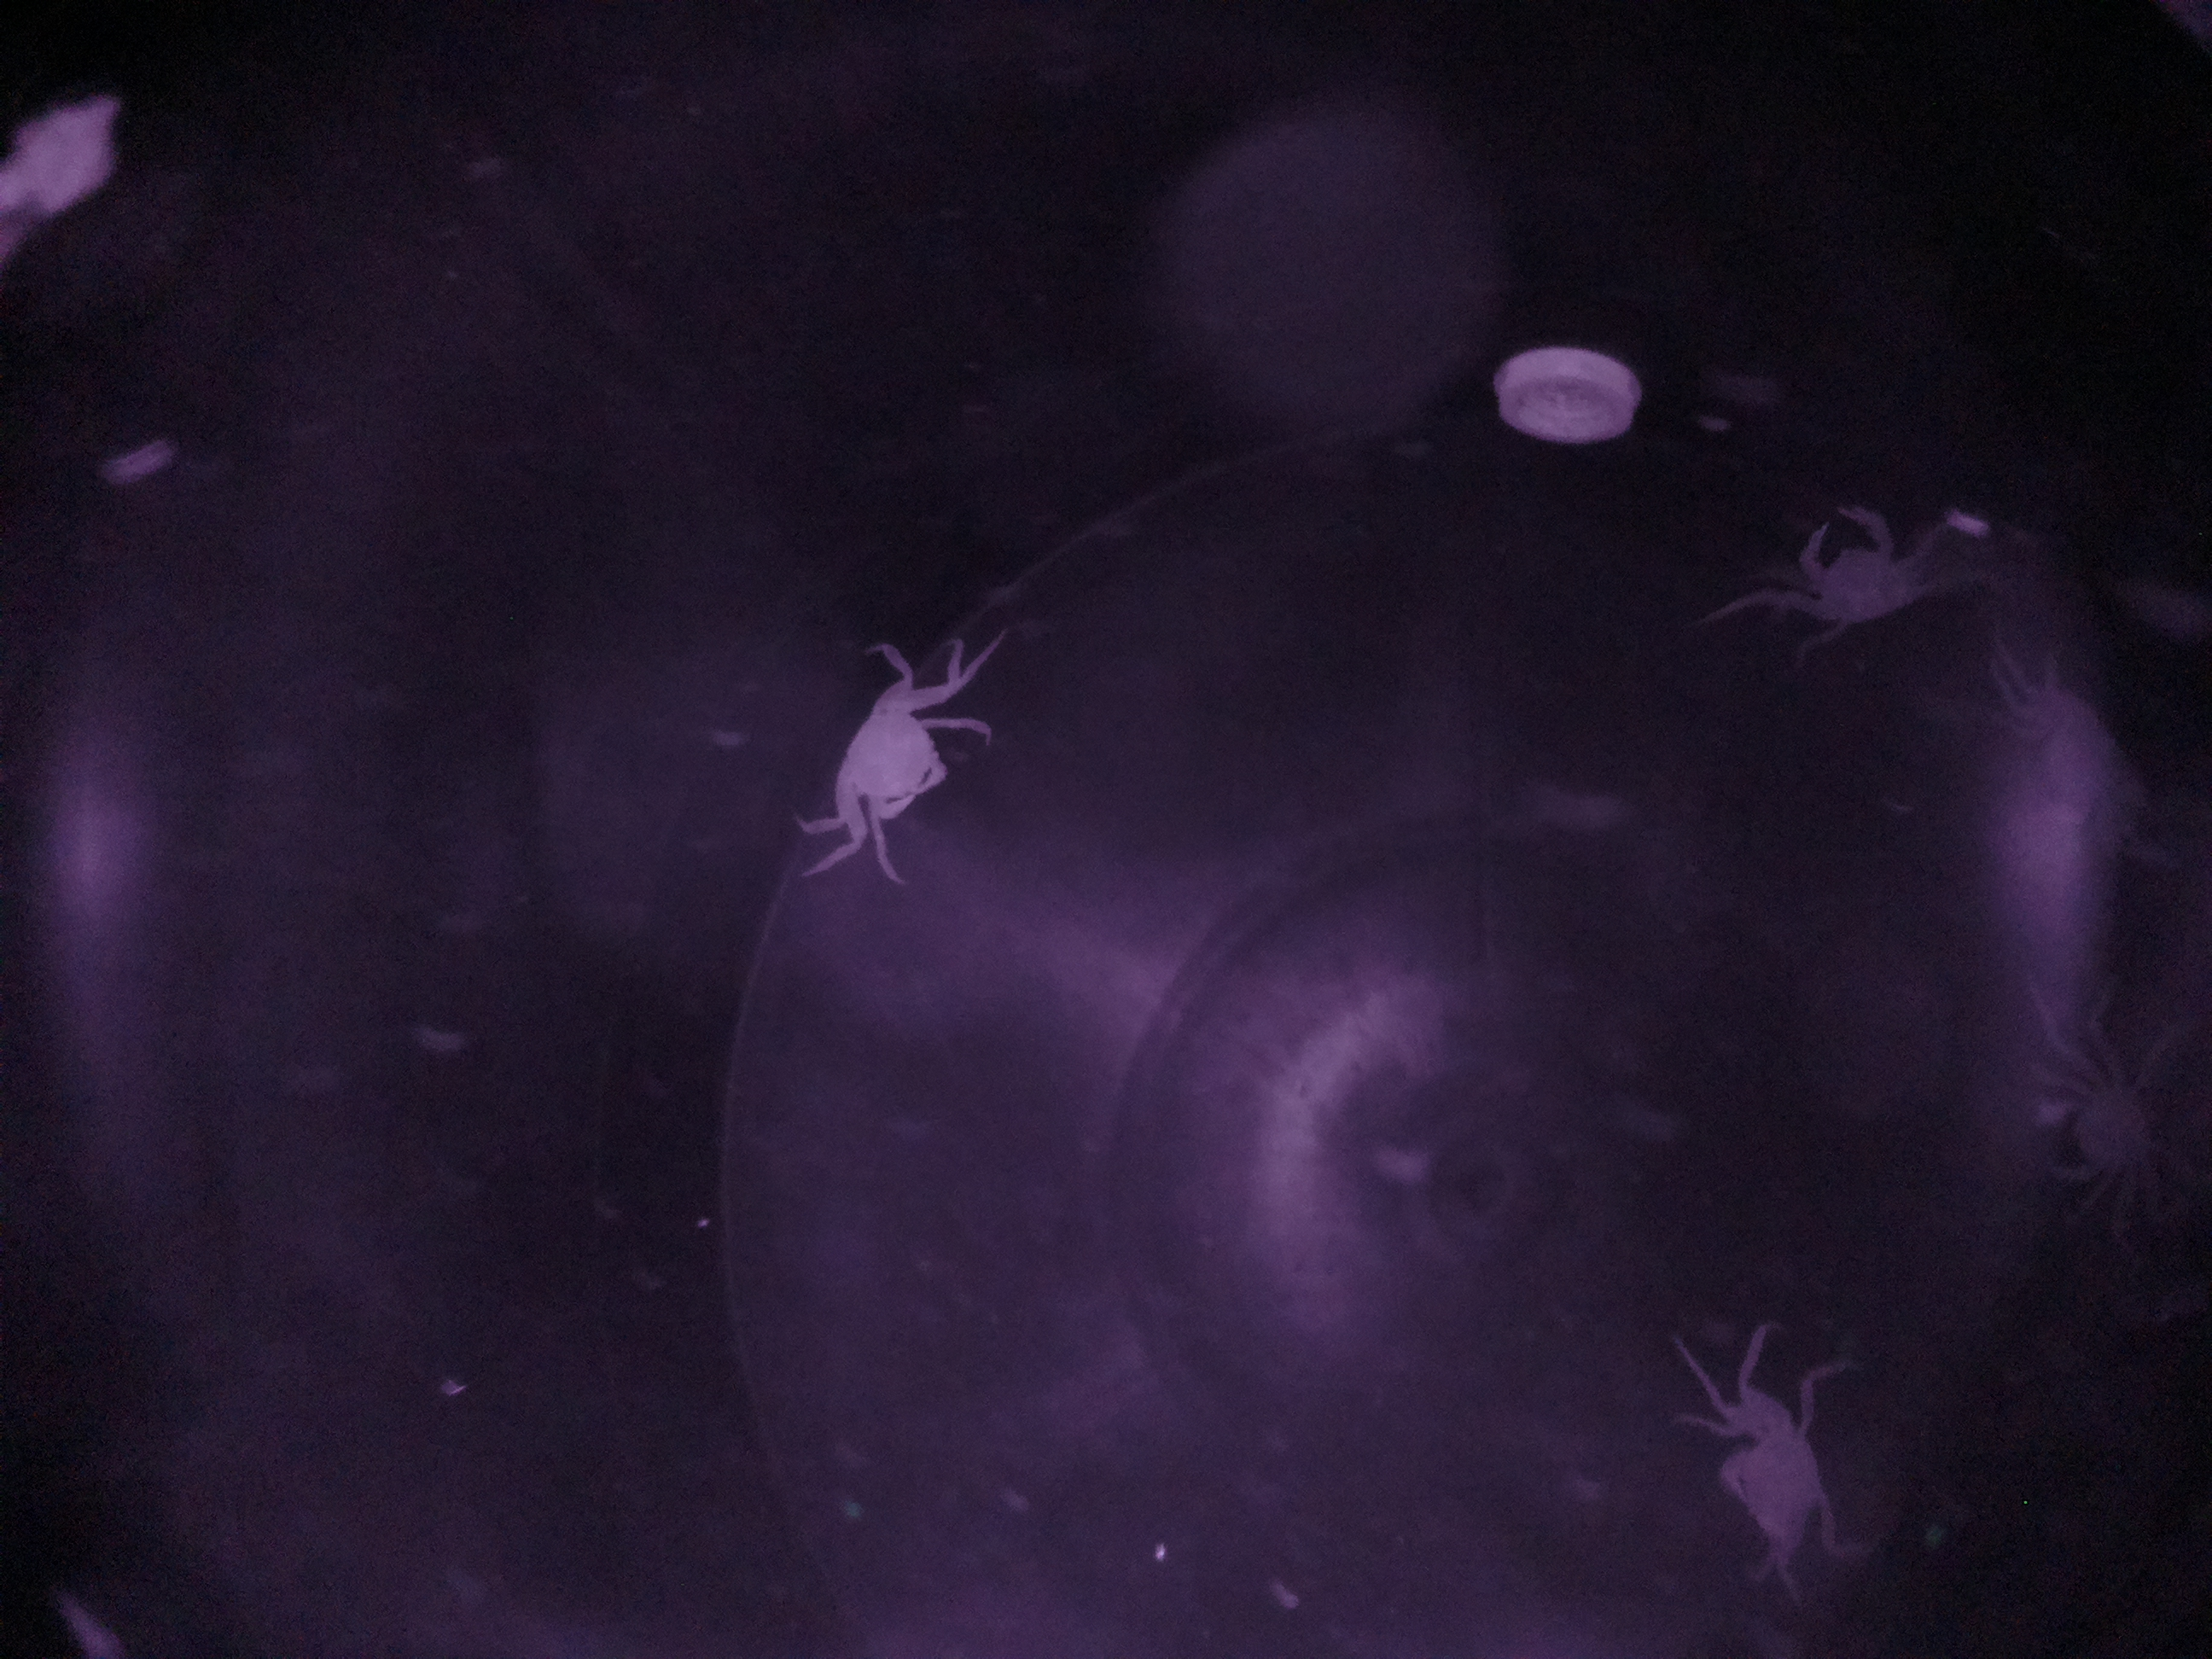Crab: (1747, 474, 1951, 650), (791, 660, 965, 840), (1726, 1368, 1855, 1608)
